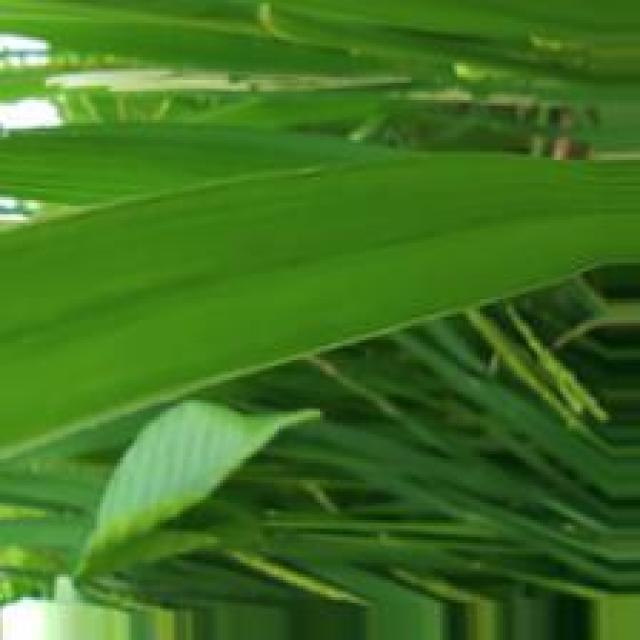HealthyLeaf: (0, 155, 640, 462), (88, 401, 323, 559)
